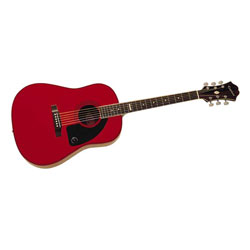guitar: (10, 79, 241, 170)
